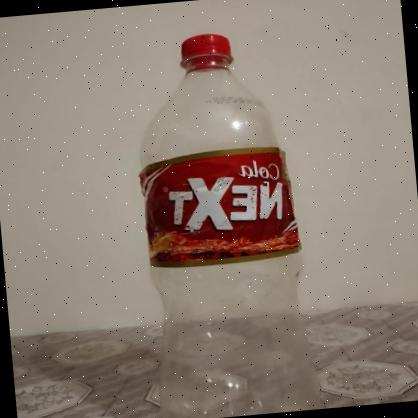bottle: (133, 30, 311, 418)
cap: (181, 32, 232, 62)
label: (139, 147, 300, 271)
